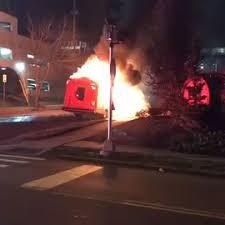fire: (77, 55, 149, 119)
